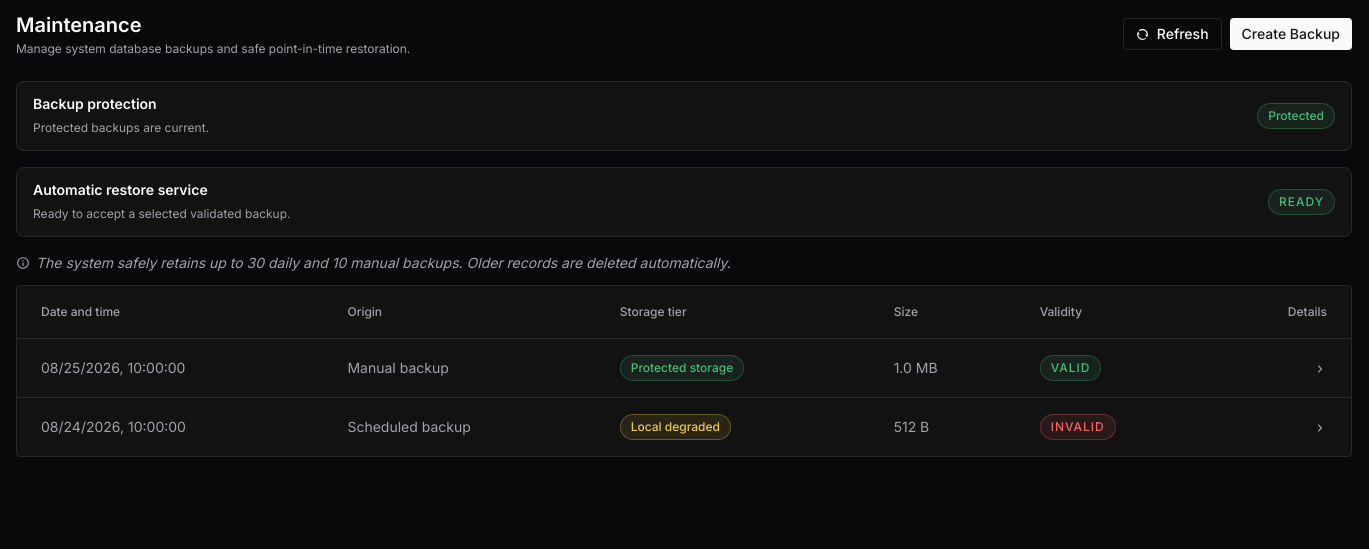
Test: Maintenance page restore point picker › keeps an invalid backup inspectable without a restore action
What coordinates should you click on to do the following:
click the row that starts with "Scheduled backup"
I would click on:
 (684, 427)
Its box is [17, 398, 1351, 456].
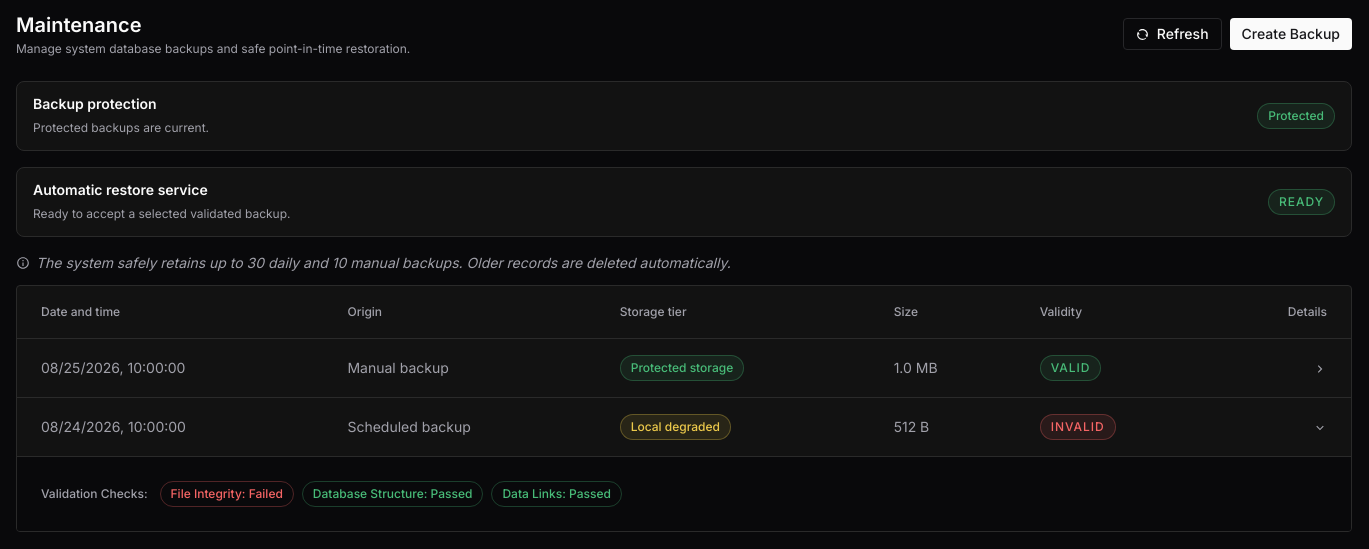
Check: the text "Validation Checks:" is shown, box [41, 484, 148, 504]
